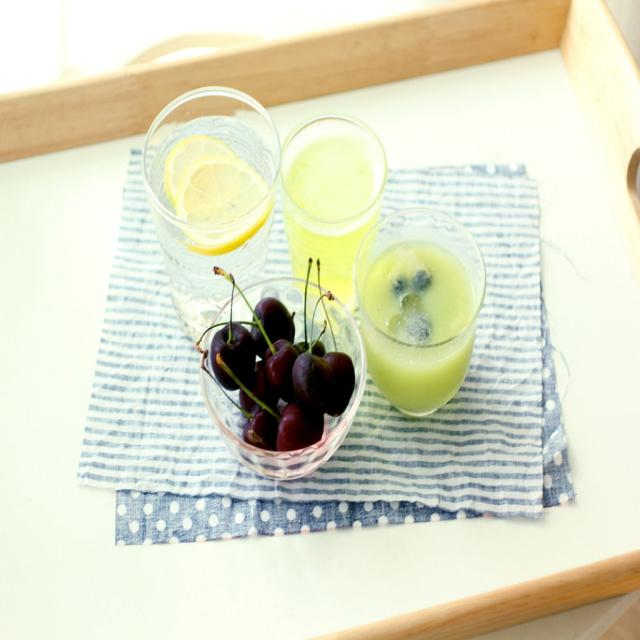Lemon: (178, 151, 276, 252), (166, 134, 232, 208)
